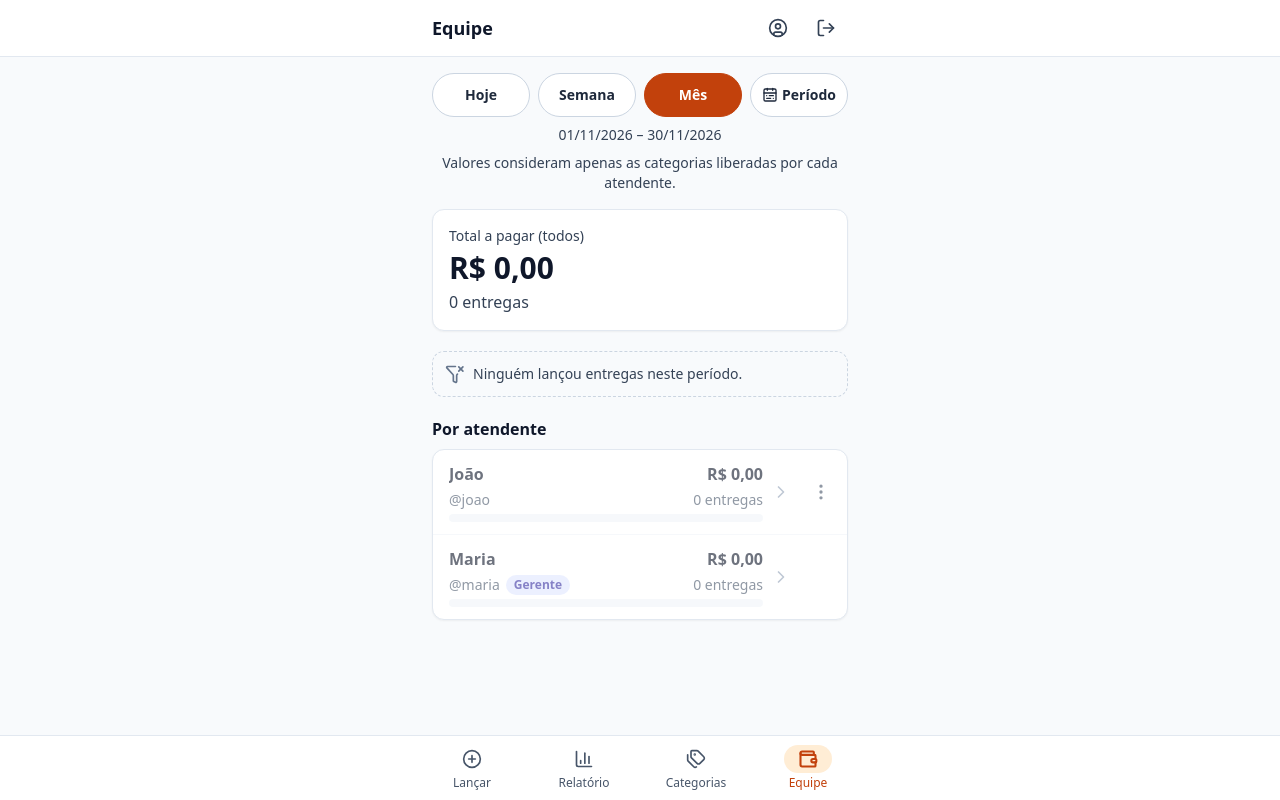
Test: Equipe: Redefinir senha (spec 010) › 403 da função ("Acesso negado") aparece no sheet
Step 1. Click the button named "Ações de João" → {"x": 821, "y": 492}, box [799, 470, 843, 514]
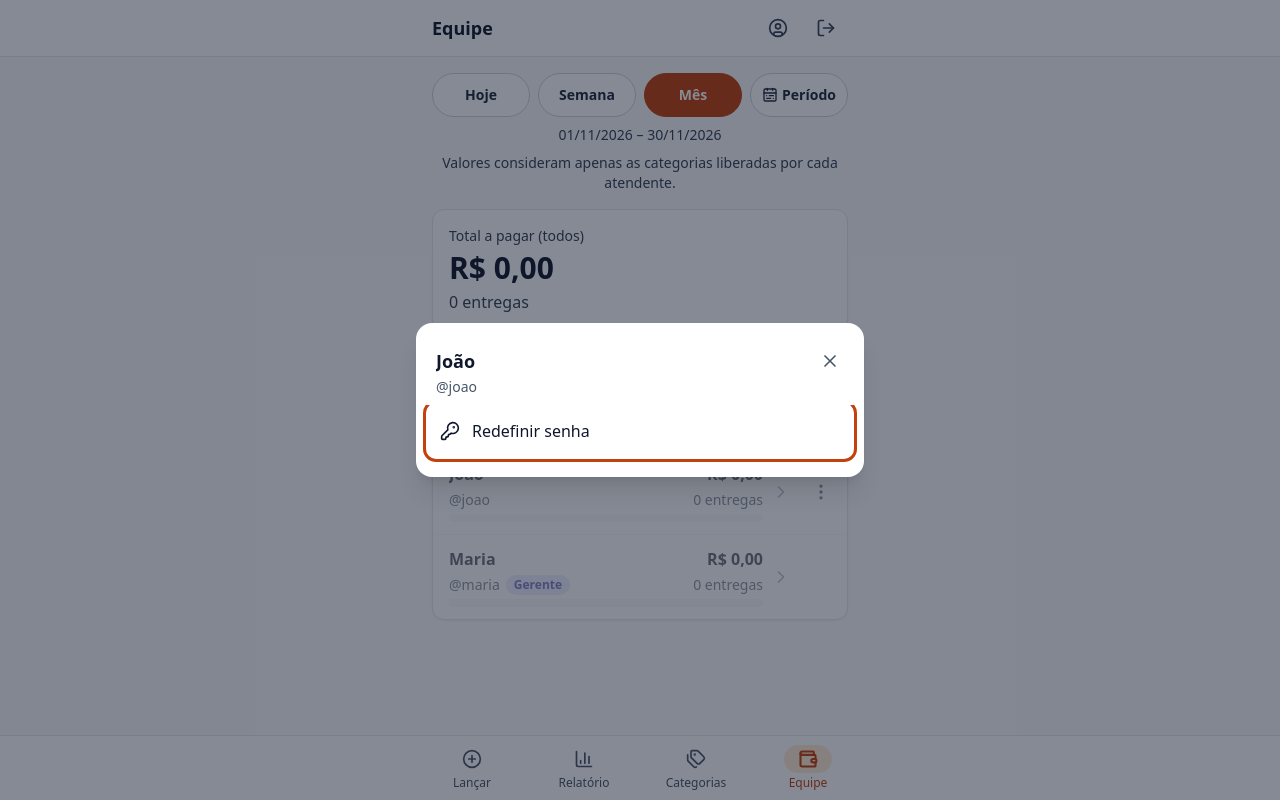
Step 2. Click the button "Redefinir senha" → {"x": 531, "y": 431}, box [428, 405, 852, 457]
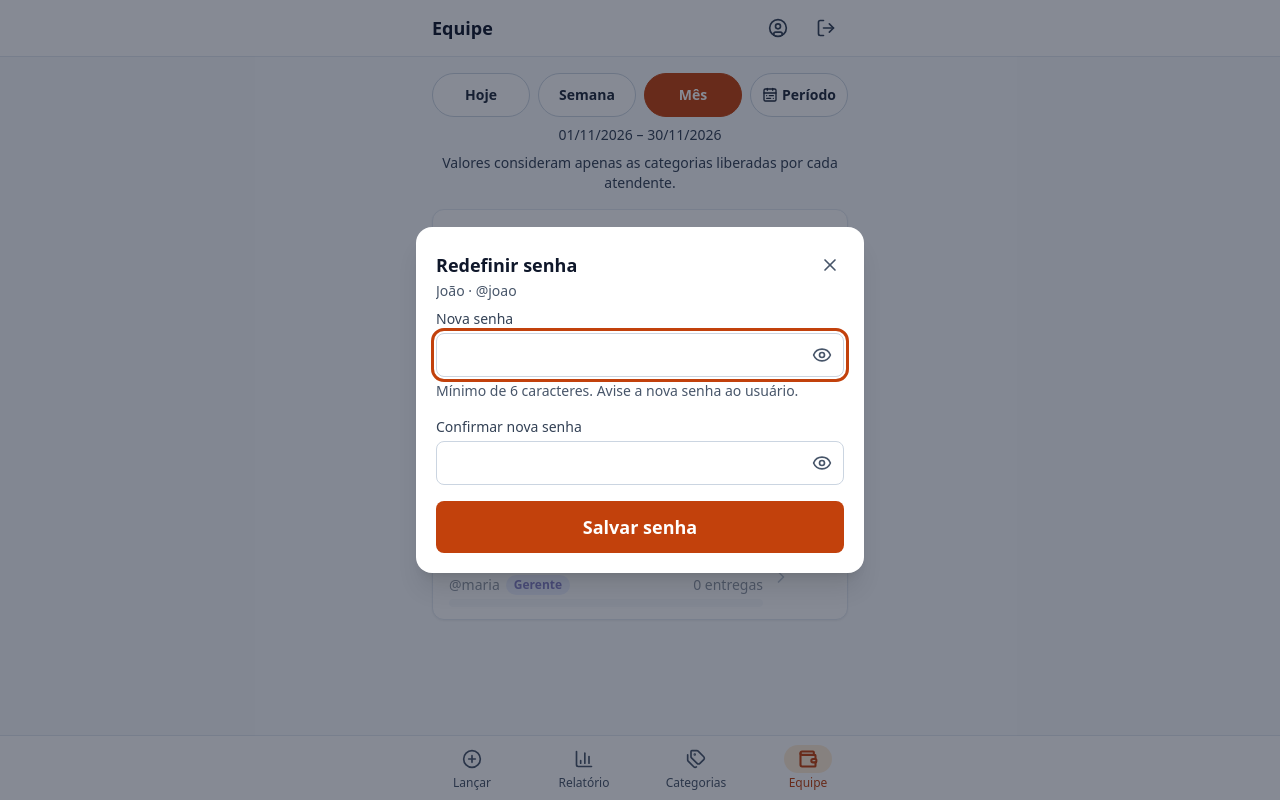
Step 3. Type "nova123" into the password field labelled "Nova senha" → {"x": 640, "y": 355}, box [436, 333, 844, 377]
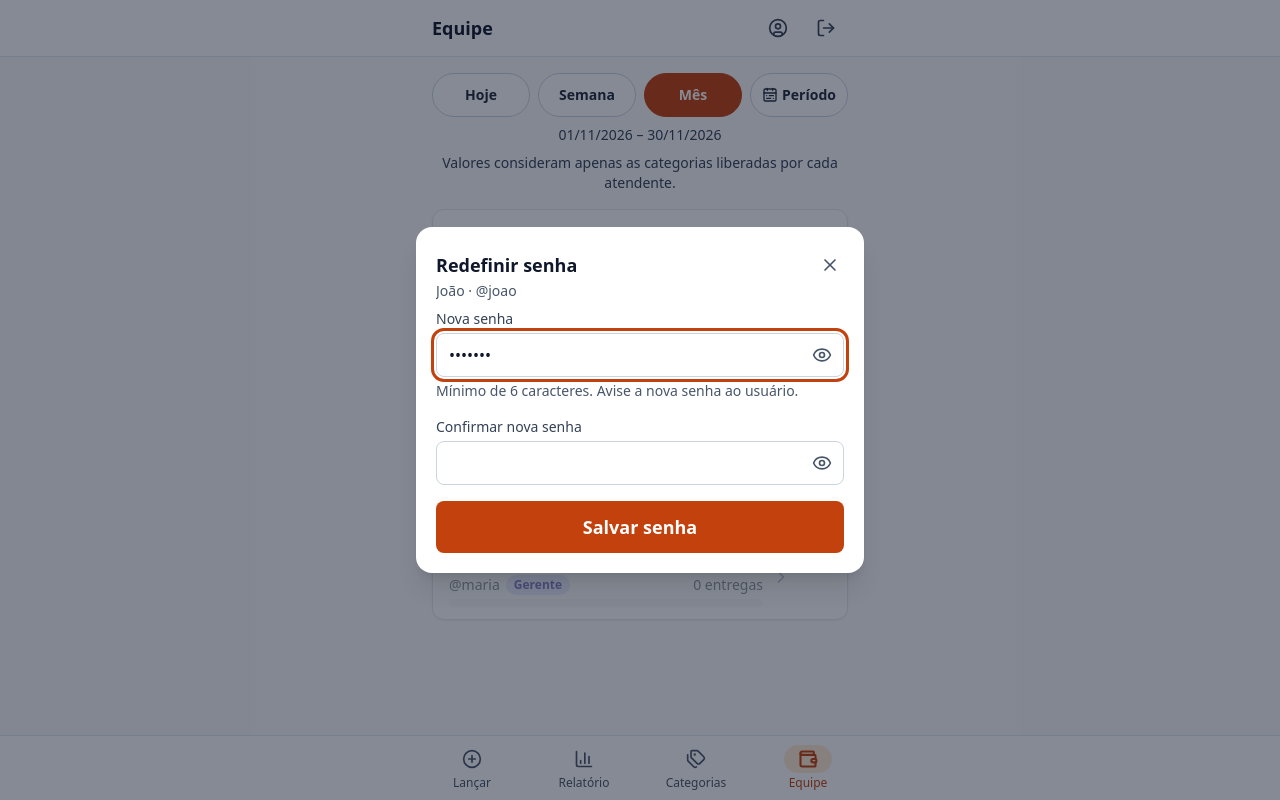
Step 4. Type "nova123" into the password field labelled "Confirmar nova senha" → {"x": 640, "y": 463}, box [436, 441, 844, 485]
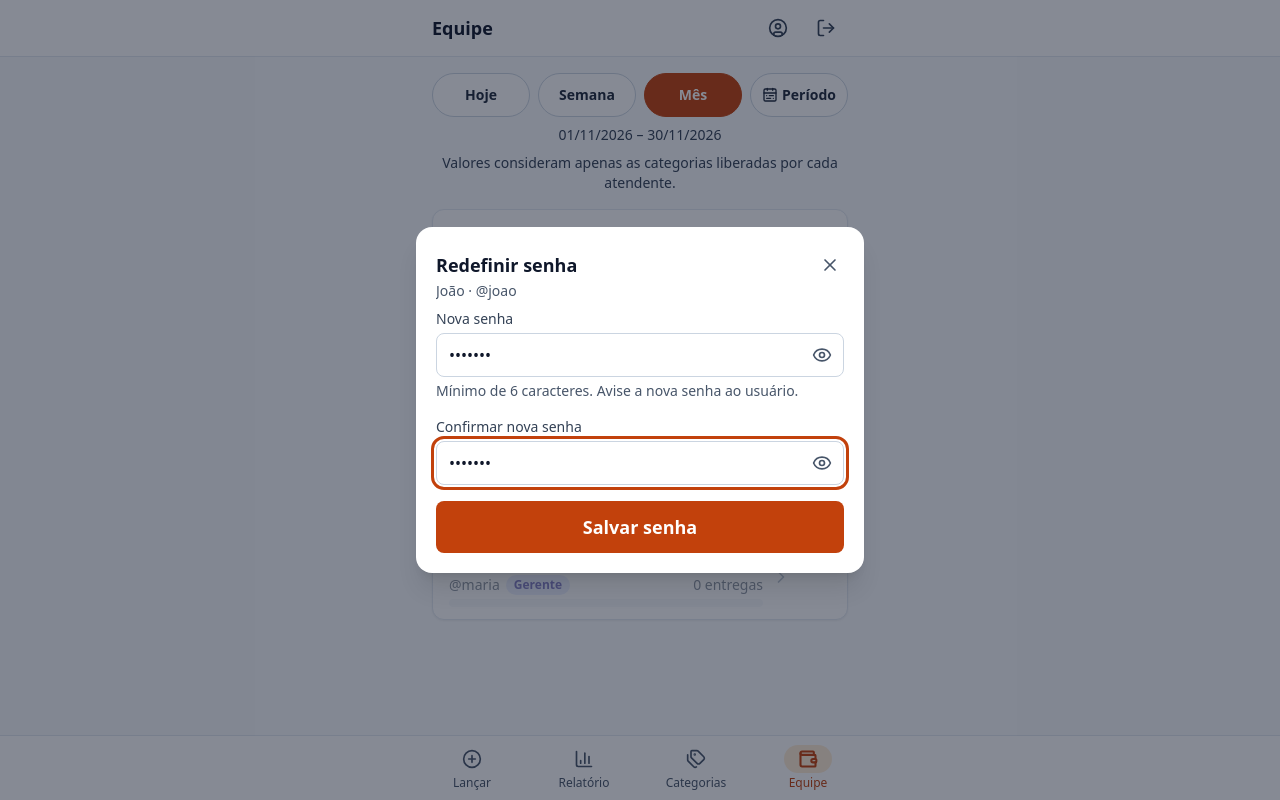
Step 5. Click the button "Salvar senha" → {"x": 640, "y": 527}, box [436, 501, 844, 553]
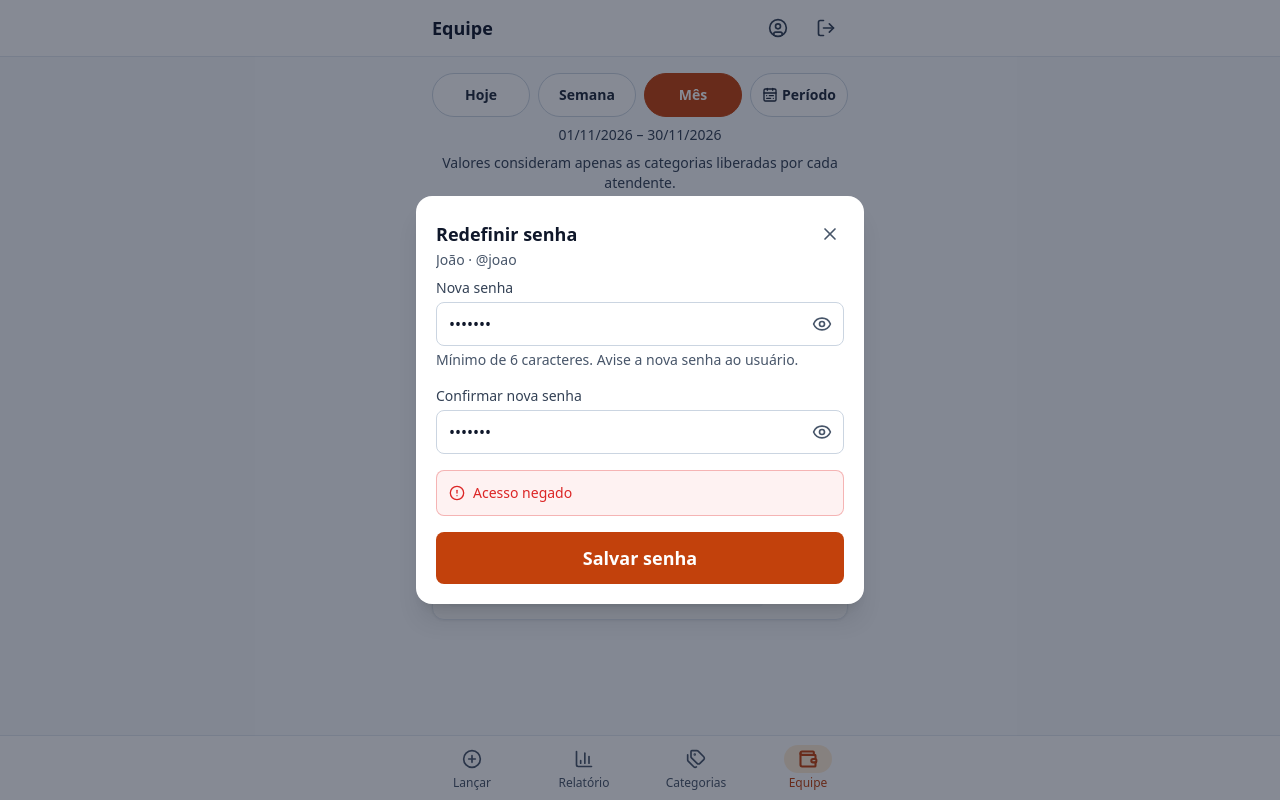
Check: the message reads "Acesso negado", box [473, 483, 572, 502]
